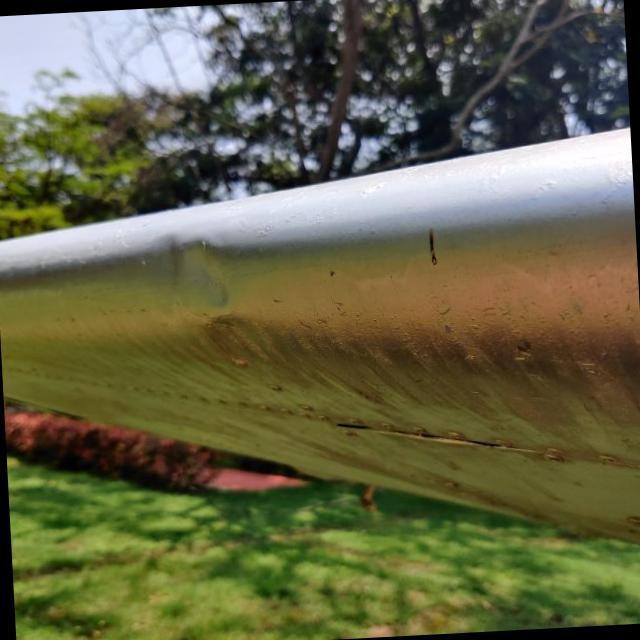Dent: (142, 212, 256, 334)
